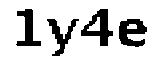1: (14, 6, 45, 50)
4: (81, 5, 117, 51)
e: (117, 16, 150, 51)
y: (46, 16, 77, 60)
